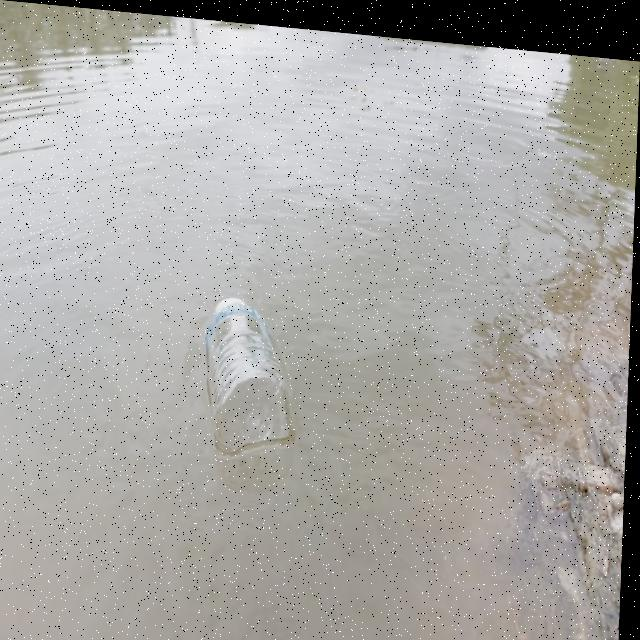waterbottle: (184, 272, 316, 472)
